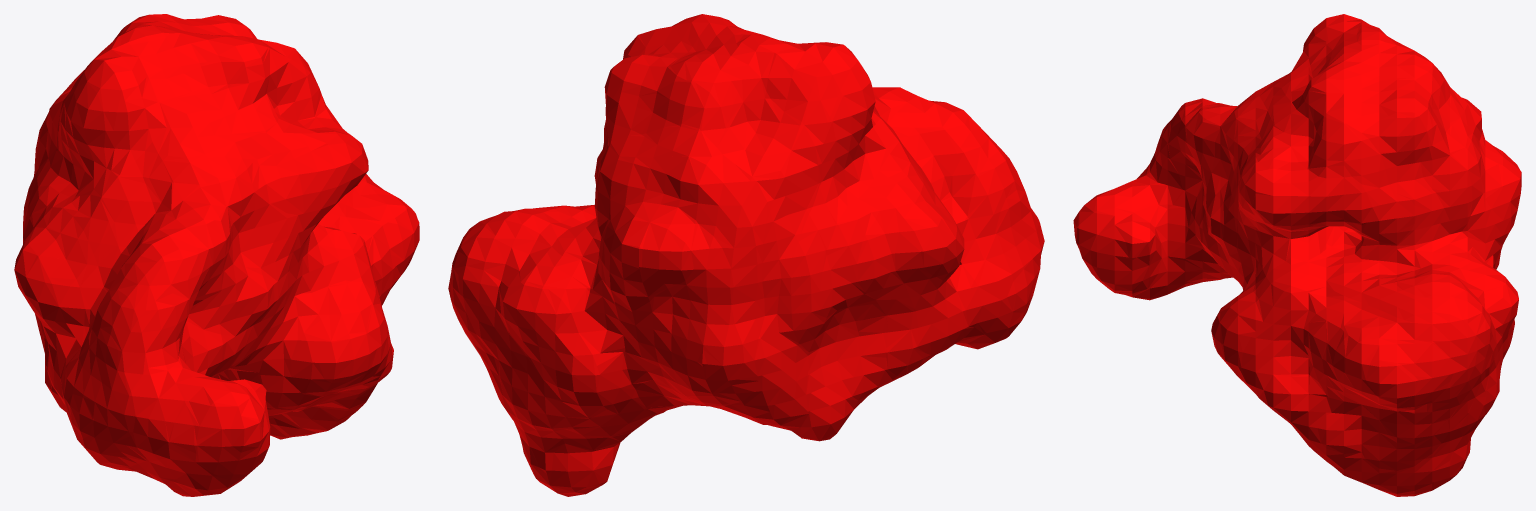
The model's file is edd_coarse.dae.
3 renders of one model, left to right at view 1: azimuth 30°, elevation 25°; view 2: azimuth 150°, elevation 25°; view 3: azimuth 270°, elevation 25°, orthographic. The views are drawn at different scales.
Visible parts, largest first — view 1: edd; view 2: edd; view 3: edd.
Part boxes in pixels (<box>): edd: <box>14,14,419,496</box>; edd: <box>448,14,1044,496</box>; edd: <box>1073,14,1521,496</box>.
Bounding box in the file's own units: 75.43 × 74.42 × 76.7.
